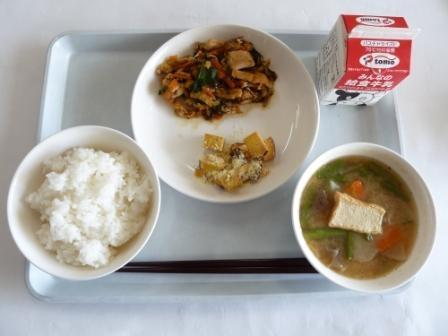Milk: (315, 13, 416, 116)
Rice: (9, 130, 161, 278)
Soups: (293, 140, 434, 283)
cooked food meat with vegetables: (157, 32, 283, 122)
salad with sauce: (190, 118, 286, 198)
